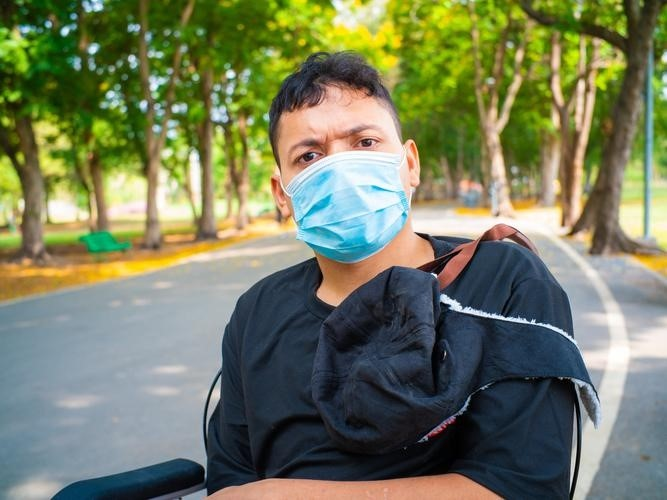face_with_mask: (268, 60, 417, 265)
